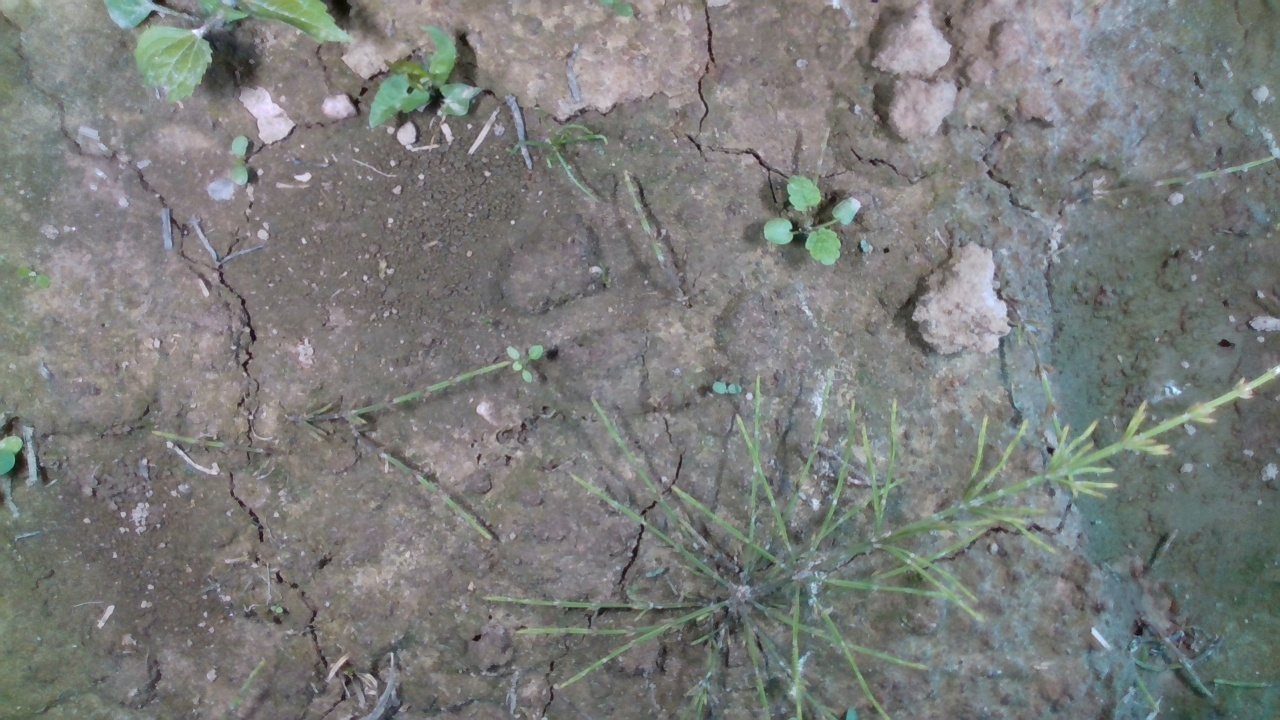weed: (760, 171, 861, 267), (506, 342, 544, 384), (230, 133, 250, 185), (711, 380, 742, 395), (268, 603, 284, 614)
